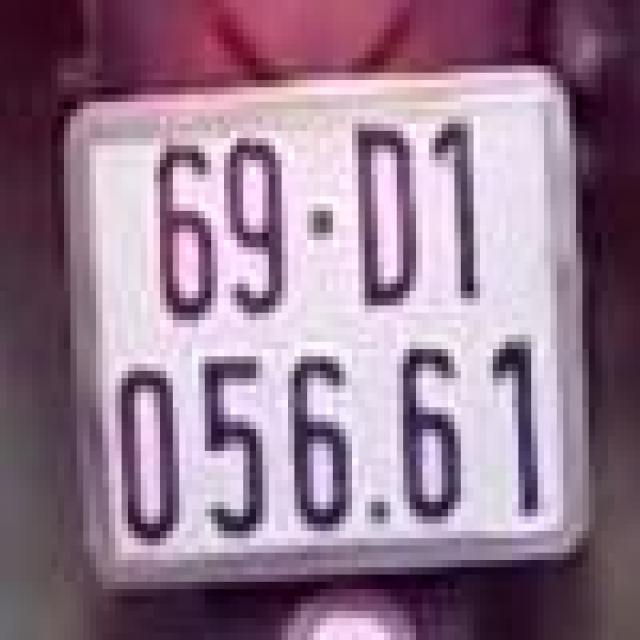0: (99, 342, 189, 553)
1: (486, 331, 557, 513), (432, 102, 483, 313)
5: (185, 346, 268, 534)
6: (272, 335, 362, 538), (394, 327, 471, 524), (147, 127, 218, 324)
8: (208, 134, 304, 323)
D: (339, 109, 429, 320)
